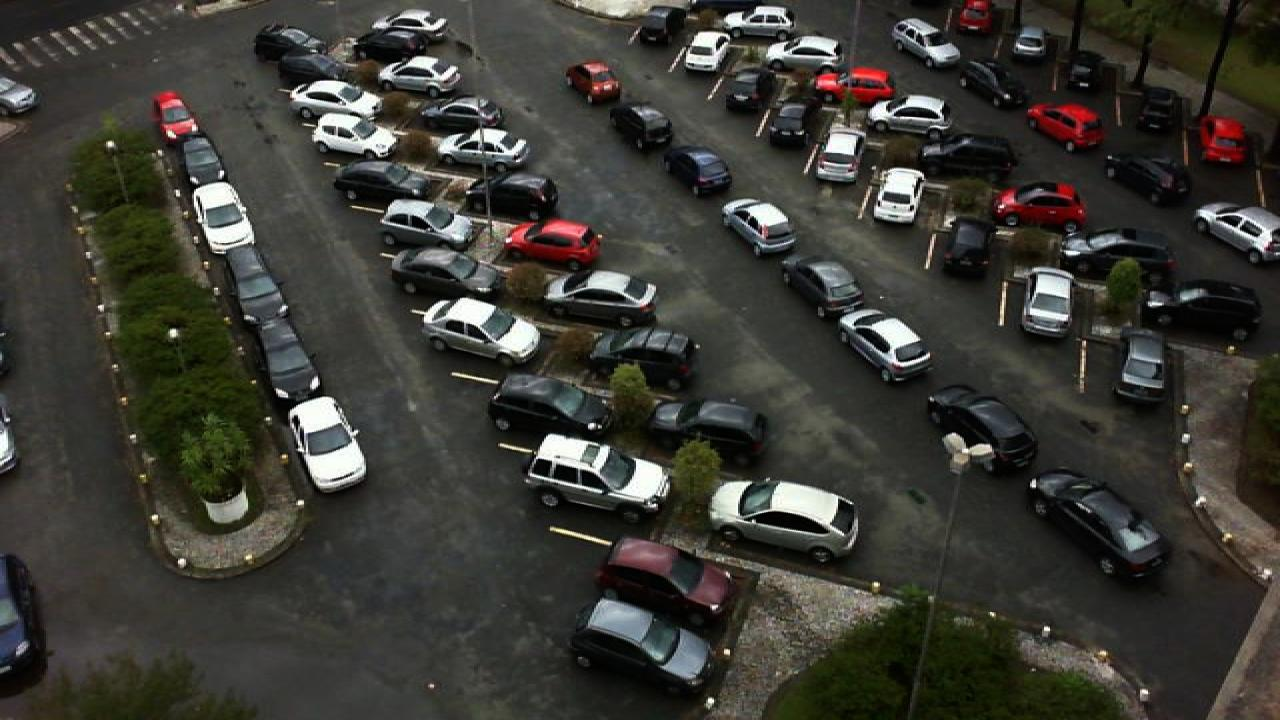Car: (1028, 468, 1170, 579), (566, 598, 716, 698), (522, 433, 672, 523), (706, 477, 862, 561), (594, 537, 734, 623), (922, 384, 1036, 472), (420, 296, 544, 363), (286, 395, 368, 494), (486, 373, 612, 437), (648, 396, 770, 460), (1140, 278, 1262, 341), (586, 326, 700, 390), (838, 308, 934, 382), (538, 269, 660, 325), (1056, 225, 1174, 278), (388, 246, 500, 295), (780, 255, 864, 318), (1192, 204, 1280, 263), (994, 182, 1090, 234), (258, 326, 324, 400), (502, 219, 604, 266), (192, 180, 258, 252), (1104, 152, 1190, 207), (460, 175, 560, 222), (376, 197, 470, 246), (1112, 326, 1170, 405), (1018, 266, 1078, 342), (720, 197, 798, 254), (436, 127, 530, 172), (332, 160, 428, 204), (914, 134, 1018, 174), (238, 281, 300, 348), (1026, 102, 1106, 152), (308, 112, 398, 156), (286, 79, 384, 119), (662, 144, 732, 197), (890, 17, 964, 67), (376, 54, 462, 96), (940, 217, 998, 279), (866, 166, 924, 224), (958, 60, 1028, 108), (868, 94, 954, 132), (810, 66, 896, 104), (220, 244, 278, 299), (420, 96, 506, 132), (610, 101, 672, 150), (1196, 115, 1252, 169), (764, 36, 842, 74), (178, 137, 232, 187), (814, 127, 862, 183), (252, 24, 326, 60), (152, 91, 202, 142), (278, 53, 350, 88), (376, 9, 450, 42), (566, 60, 622, 103), (350, 29, 420, 62), (1136, 84, 1182, 133), (632, 5, 686, 46), (764, 102, 812, 146), (682, 30, 730, 74), (724, 5, 796, 34), (1060, 47, 1104, 94), (728, 64, 770, 109), (1012, 26, 1048, 63), (956, 0, 992, 35)
